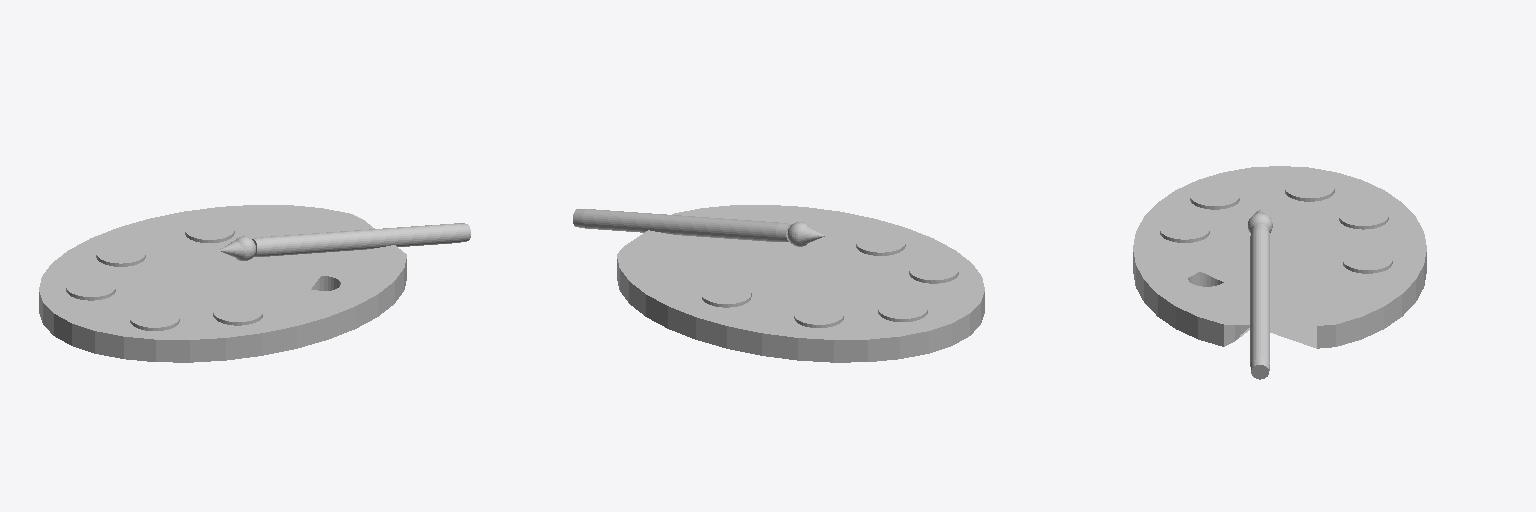
File: Palette.obj
3 views of the same model, side by side, from view 1: azimuth 30°, elevation 25°; view 2: azimuth 150°, elevation 25°; view 3: azimuth 270°, elevation 25° (orthographic).
Parts seen in each view (by area): view 1: Palette; view 2: Palette; view 3: Palette.
Part boxes in pixels (bbox=[...]): Palette: bbox=[39, 205, 470, 362]; Palette: bbox=[573, 205, 984, 362]; Palette: bbox=[1133, 166, 1426, 379].
Size of the model in its own units: 3.73 by 0.5478 by 2.35.